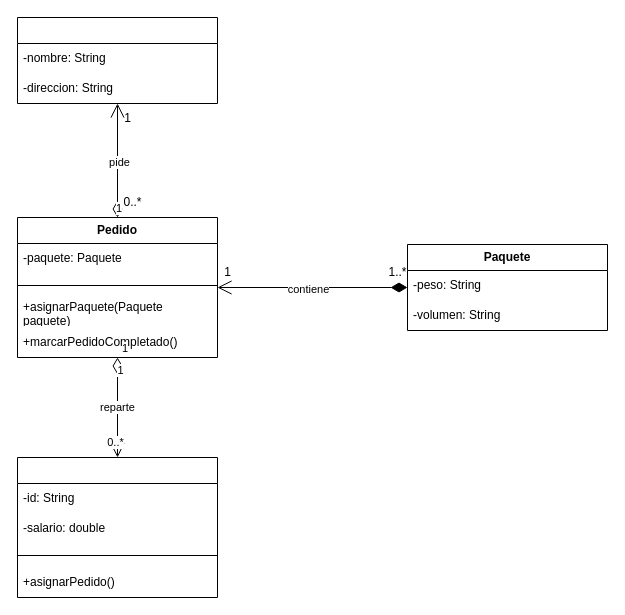
Image size: 625x615. Some labels were removed from this diagram. The shapes that lost their labels are listed below. From the top down, each one's box as (x1, y1, x2, y2) in pixels, then its label:
(16, 16, 218, 104): Cliente
(16, 456, 218, 598): Repartidores
